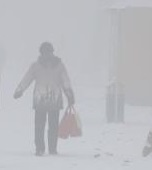person: (12, 40, 84, 157)
